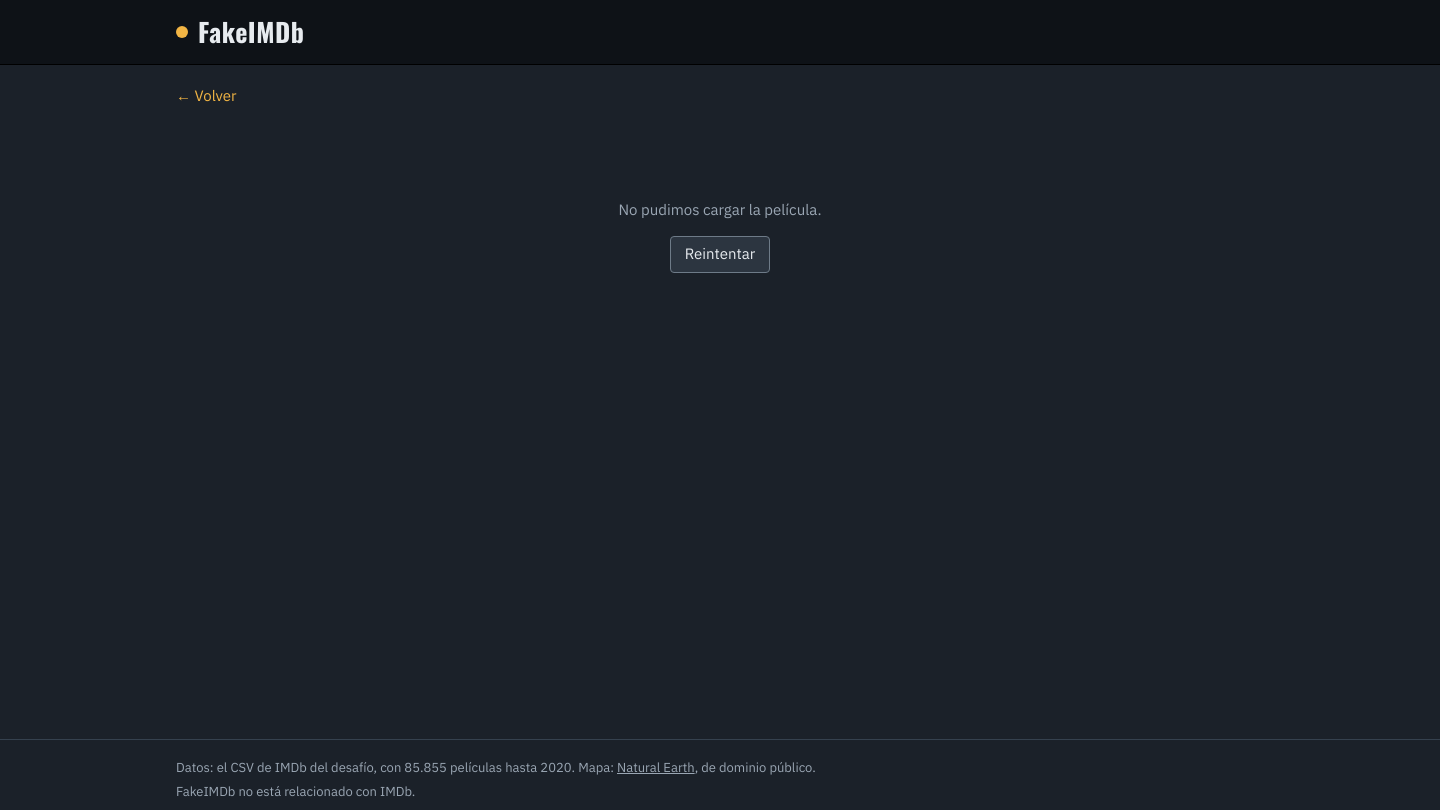
movie page › offers to retry when the API fails
This screenshot has width=1440, height=810.
Expected: the message shows "No pudimos cargar la película.", [618,200,822,218]
Click the button "Reintentar": (720,254) [670,236,770,272]
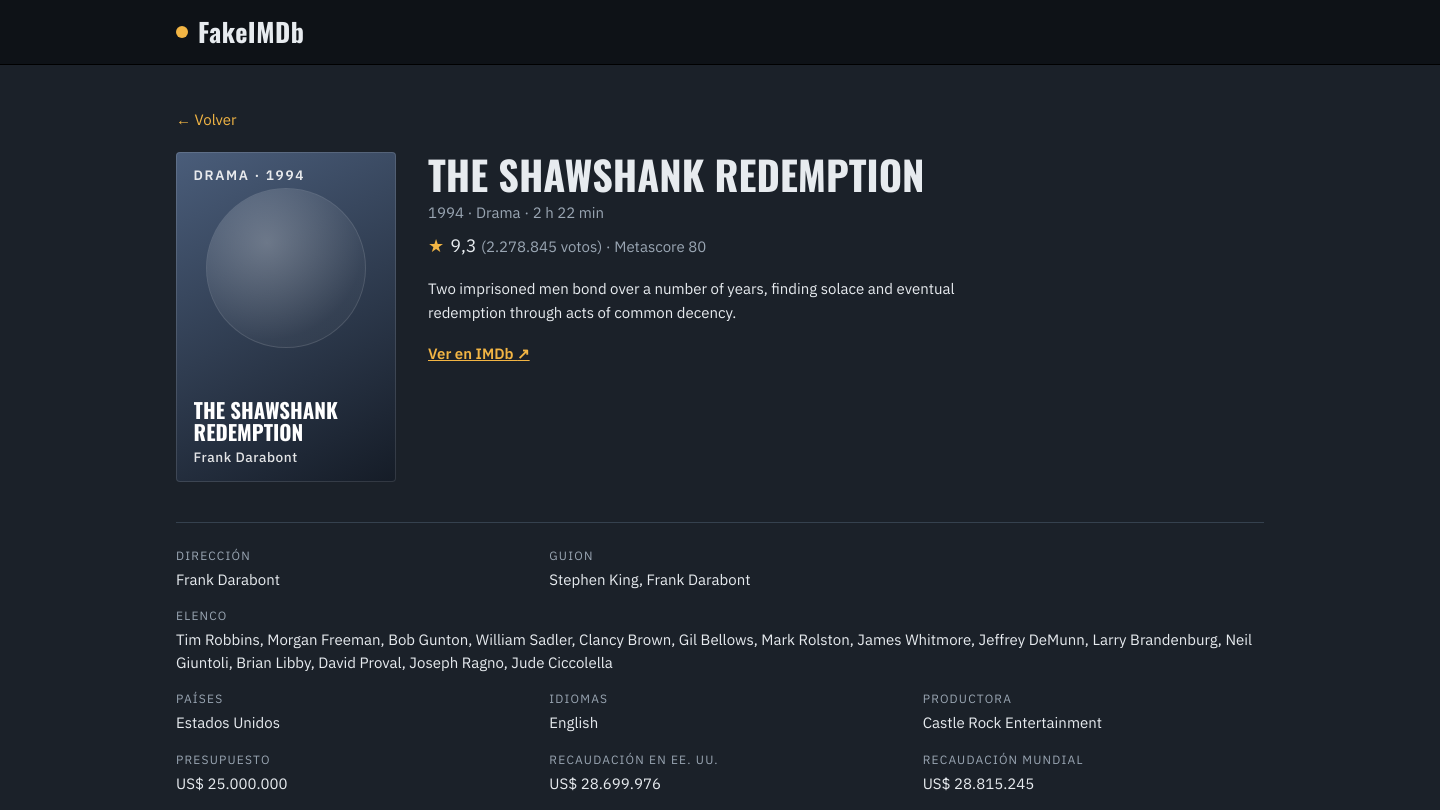
Result: the heading "The Shawshank Redemption" is shown at [428,144,924,204]
